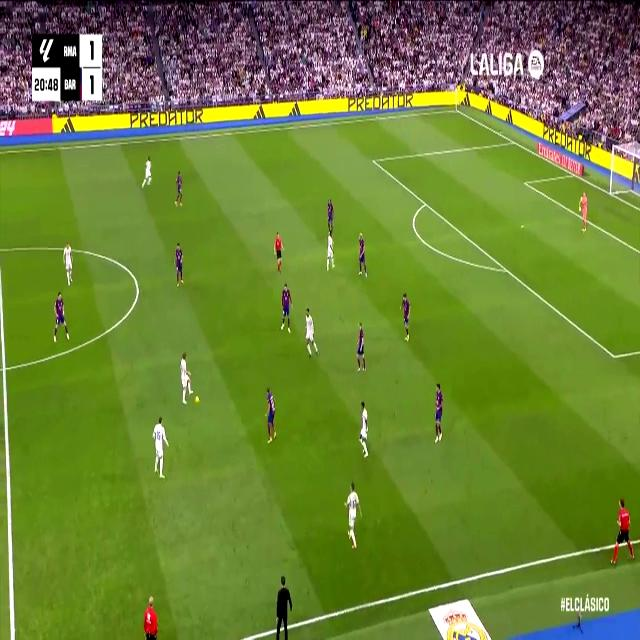bigarea_bottom_inner: (609, 345, 619, 367)
bigarea_top_inner: (370, 152, 377, 168)
bigarea_top_outter: (509, 134, 517, 148)
bottom_arc_area_intersection: (502, 261, 511, 278)
halfcircle_bottom: (0, 354, 10, 380)
smallarea_top_inner: (522, 176, 528, 188)
top_arc_area_intersection: (422, 196, 429, 210)
